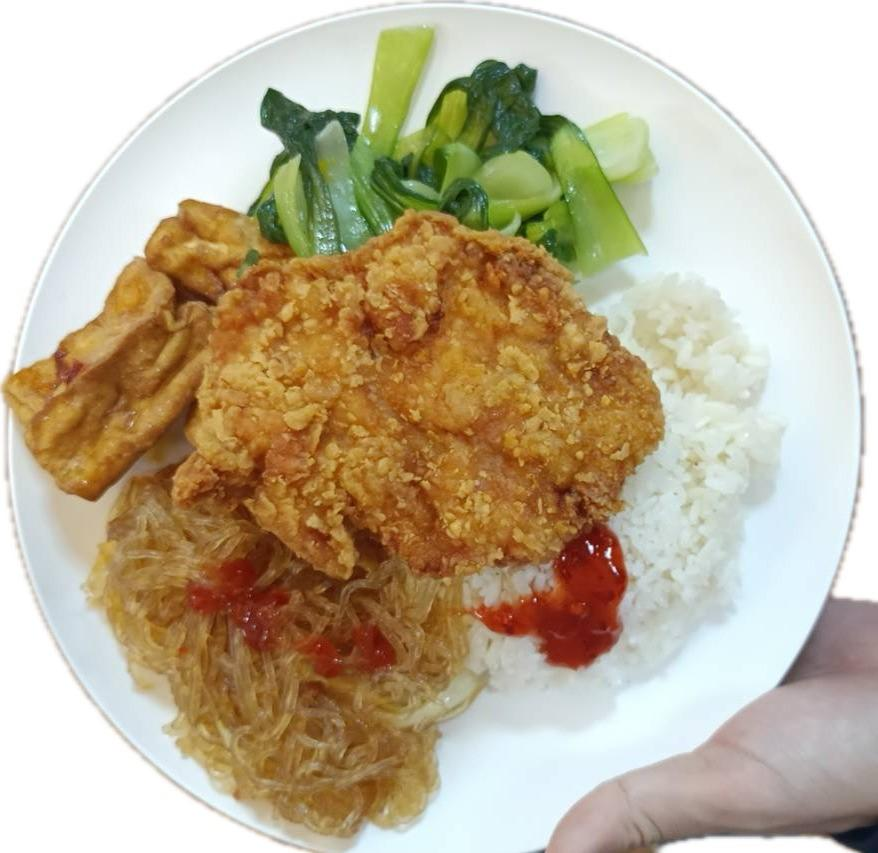big fried chicken leg: (4, 4, 870, 853)
big herbal chicken leg: (465, 254, 785, 695)
braised fish fillet: (84, 472, 463, 836), (234, 26, 654, 281), (7, 190, 284, 497)
braised pork: (204, 208, 659, 569)
